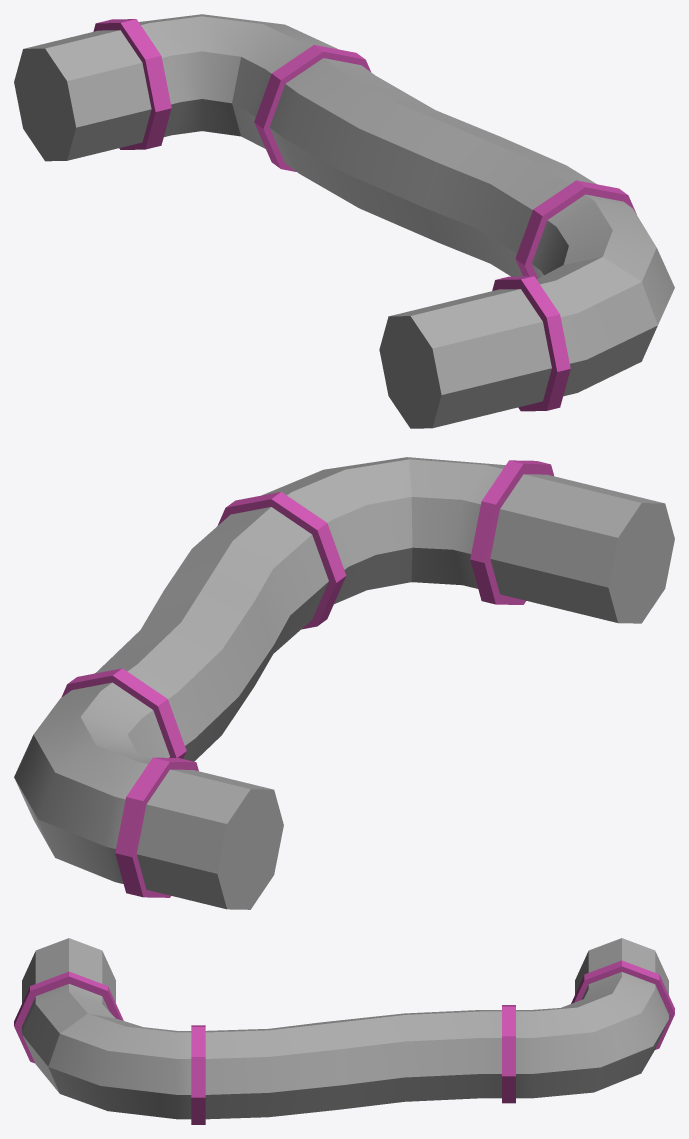
The model's file is Wire3D.fbx.
3 views of the same model, one above another, from view 1: azimuth 30°, elevation 25°; view 2: azimuth 150°, elevation 25°; view 3: azimuth 270°, elevation 25° (orthographic). The views are drawn at different scales.
Parts seen in each view (by area): view 1: polySurface1; view 2: polySurface1; view 3: polySurface1.
Part boxes in pixels (x1,y1,x2,y2): polySurface1: [14, 14, 674, 428]; polySurface1: [14, 457, 674, 909]; polySurface1: [14, 938, 674, 1124].
Size of the model in its own units: 5.88 by 2.34 by 14.05.
